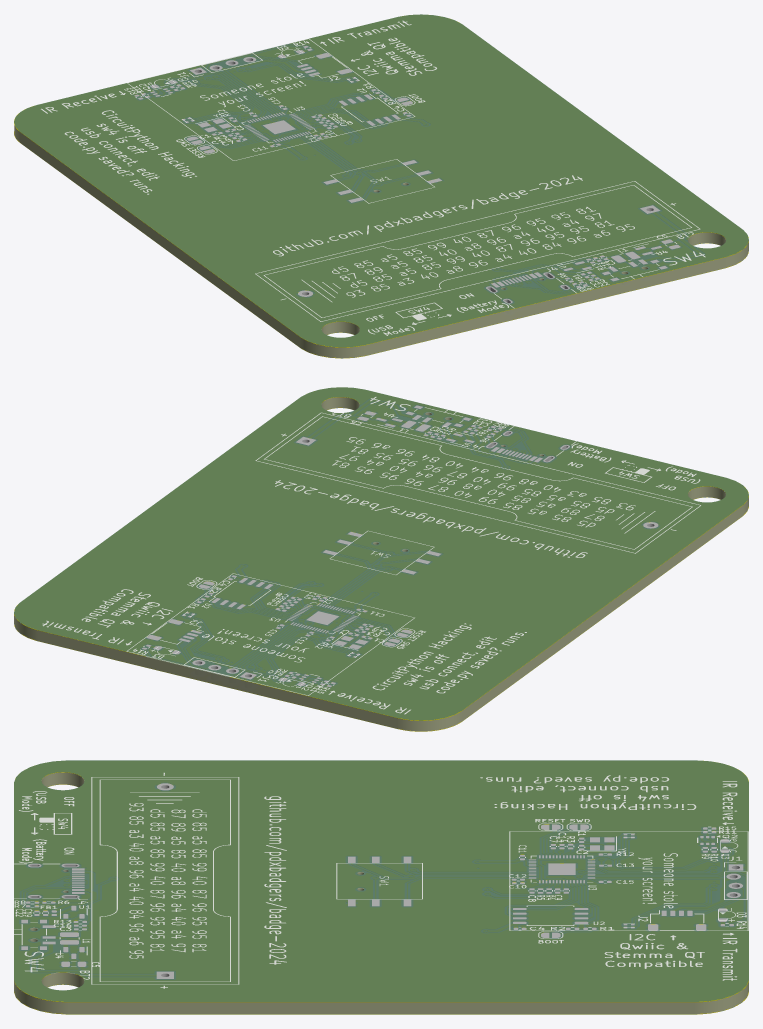
Rendered from bsidespdx-2024-opentaxus-badge.glb.
3 renders of one model, top to bottom at view 1: azimuth 30°, elevation 25°; view 2: azimuth 150°, elevation 25°; view 3: azimuth 270°, elevation 25°, orthographic. The views are drawn at different scales.
Parts seen in each view (by area): view 1: =>[0:1:1:7], =>[0:1:1:2], =>[0:1:1:5], =>[0:1:1:9]; view 2: =>[0:1:1:7], =>[0:1:1:2], =>[0:1:1:5], =>[0:1:1:9]; view 3: =>[0:1:1:7], =>[0:1:1:2], =>[0:1:1:5], =>[0:1:1:9].
Part boxes in pixels (x1,y1,x2,y2): =>[0:1:1:7]: [14, 14, 748, 358]; =>[0:1:1:2]: [14, 15, 748, 358]; =>[0:1:1:5]: [41, 20, 705, 335]; =>[0:1:1:9]: [14, 45, 748, 358]; =>[0:1:1:7]: [14, 387, 748, 731]; =>[0:1:1:2]: [14, 388, 748, 731]; =>[0:1:1:5]: [42, 397, 700, 714]; =>[0:1:1:9]: [14, 397, 748, 731]; =>[0:1:1:7]: [14, 760, 748, 1014]; =>[0:1:1:2]: [14, 760, 748, 1014]; =>[0:1:1:5]: [14, 772, 748, 988]; =>[0:1:1:9]: [14, 772, 748, 1013].
Size of the model in its own units: 0.0667 by 0.00166 by 0.0857.
4 materials, 4 textured.
